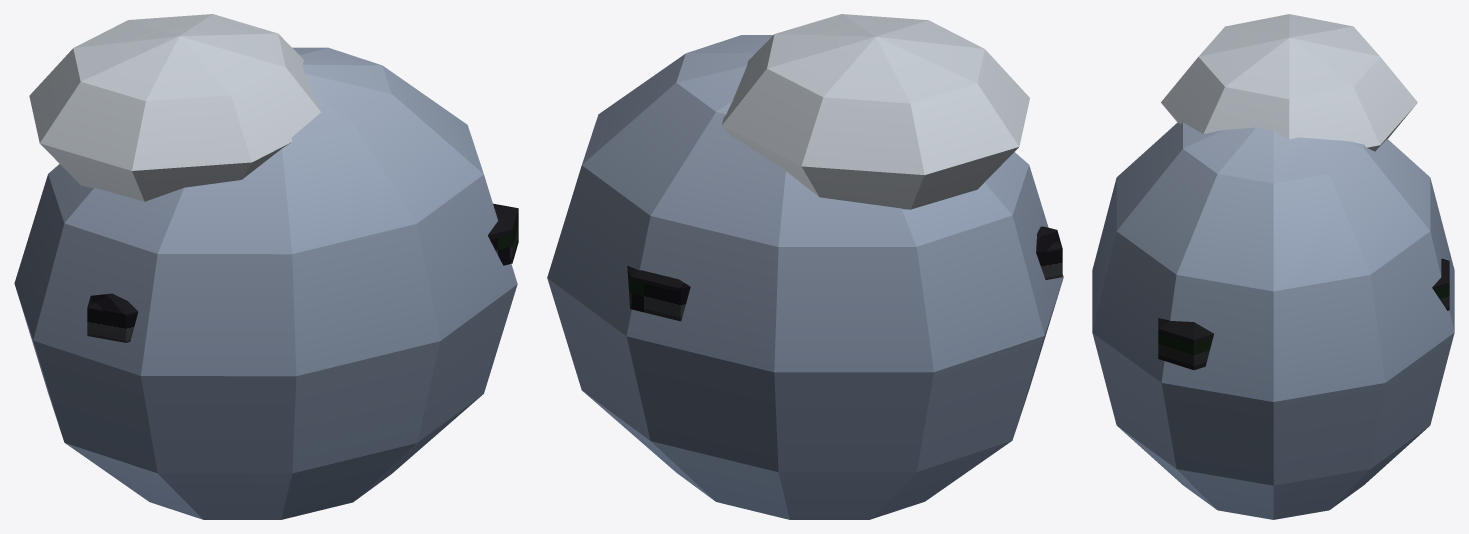
Rendered from snow_mound.glb.
3 views of the same model, side by side, from view 1: azimuth 30°, elevation 25°; view 2: azimuth 150°, elevation 25°; view 3: azimuth 270°, elevation 25° (orthographic). The views are drawn at different scales.
Parts seen in each view (by area): view 1: snow_mound; view 2: snow_mound; view 3: snow_mound.
Boxes of the visible parts, x1,y1,x2,y2 form: snow_mound: (14, 14, 518, 519); snow_mound: (547, 14, 1063, 519); snow_mound: (1092, 14, 1454, 519).
Size of the model in its own units: 3 by 2.95 by 2.28.
Materials: 2 (1 with a texture image).
